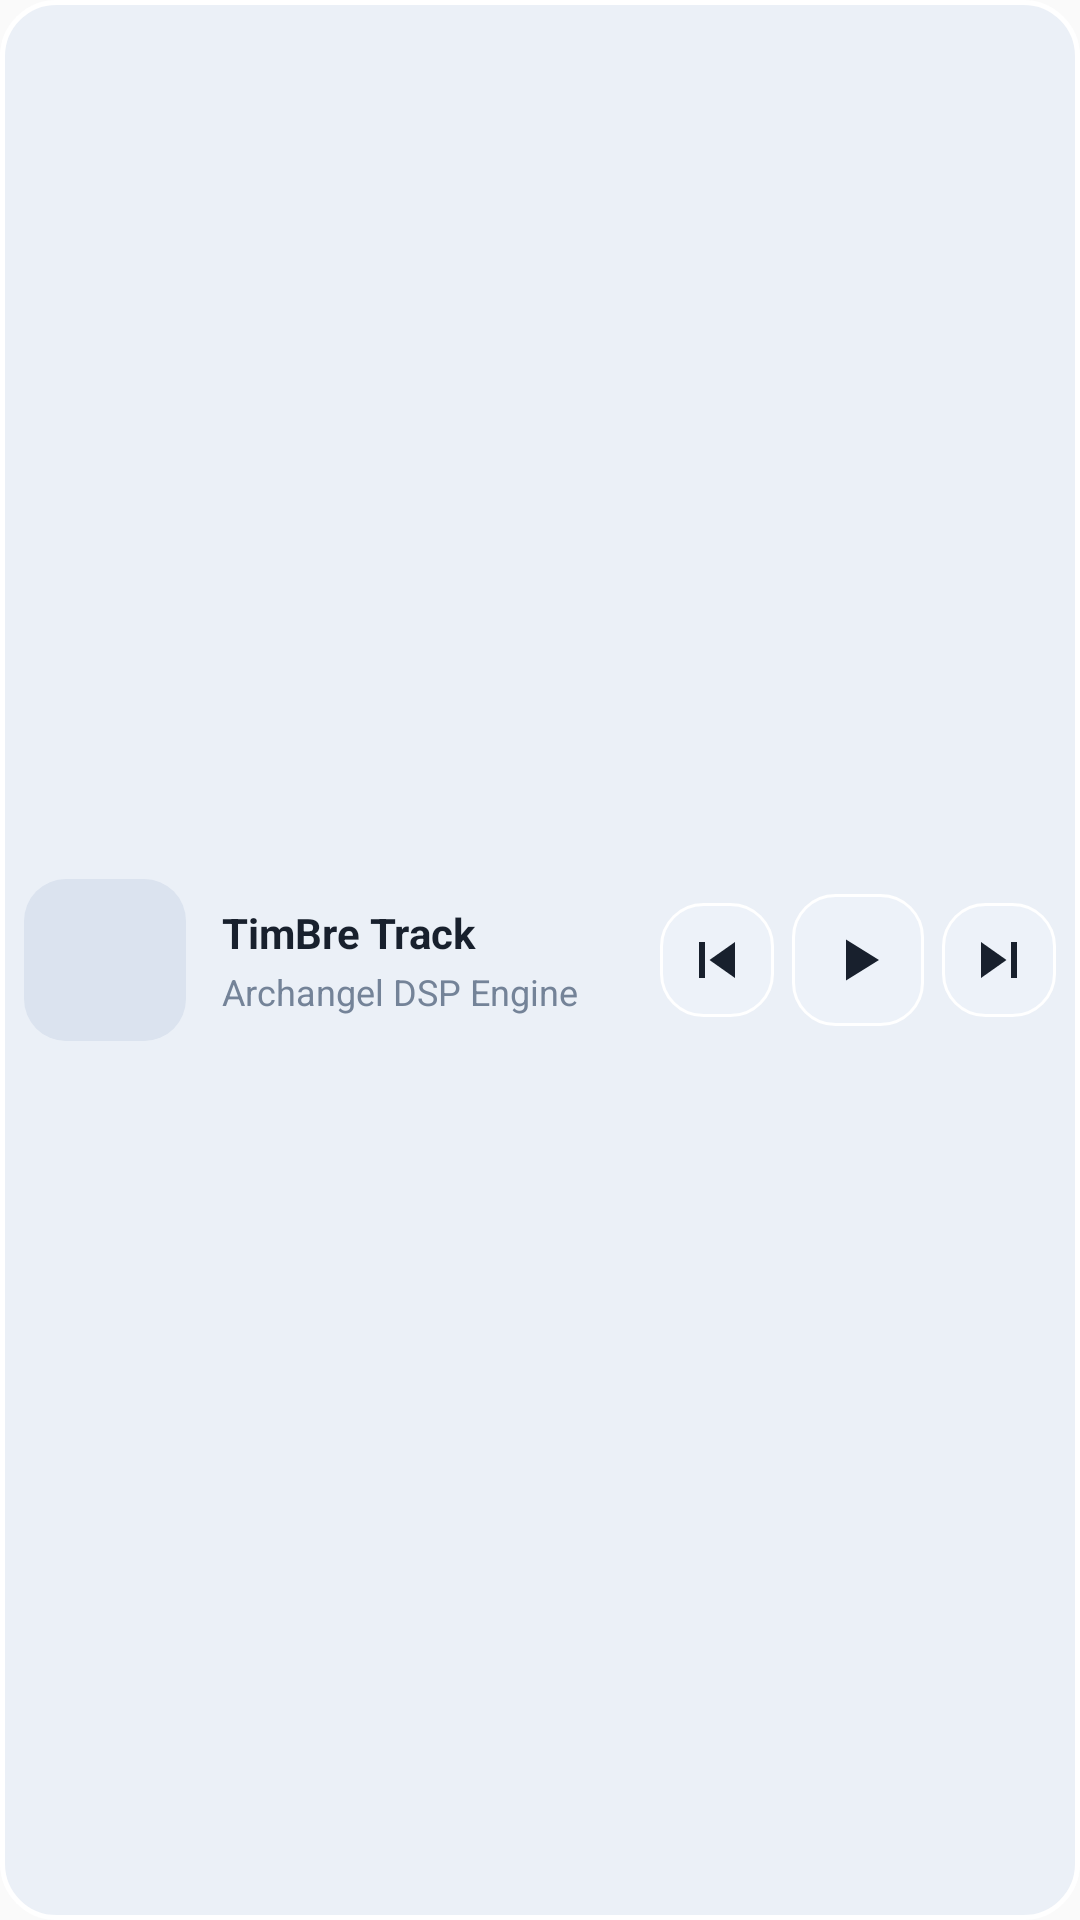

Icons on this 1080 × 1920 Android screen, each with the point to tap as point (x, y):
Next: point (999, 960)
Play/Pause: point (862, 960)
Previous: point (717, 960)
